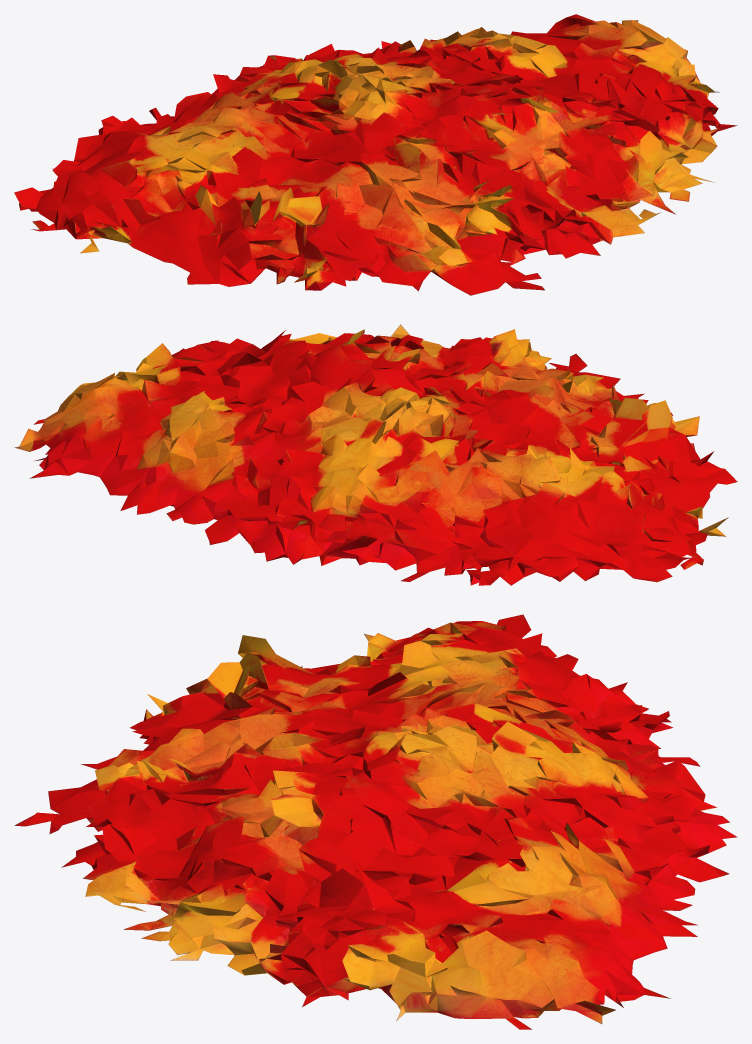
File: leafpile_b.glb
3 views of the same model, one above another, from view 1: azimuth 30°, elevation 25°; view 2: azimuth 150°, elevation 25°; view 3: azimuth 270°, elevation 25° (orthographic). The views are drawn at different scales.
Size of the model in its own units: 1.81 by 0.2263 by 1.41.
Materials: 1 (1 with a texture image).
